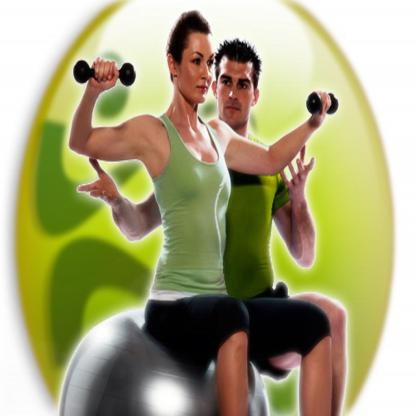face: (180, 33, 214, 105), (219, 57, 255, 123)
